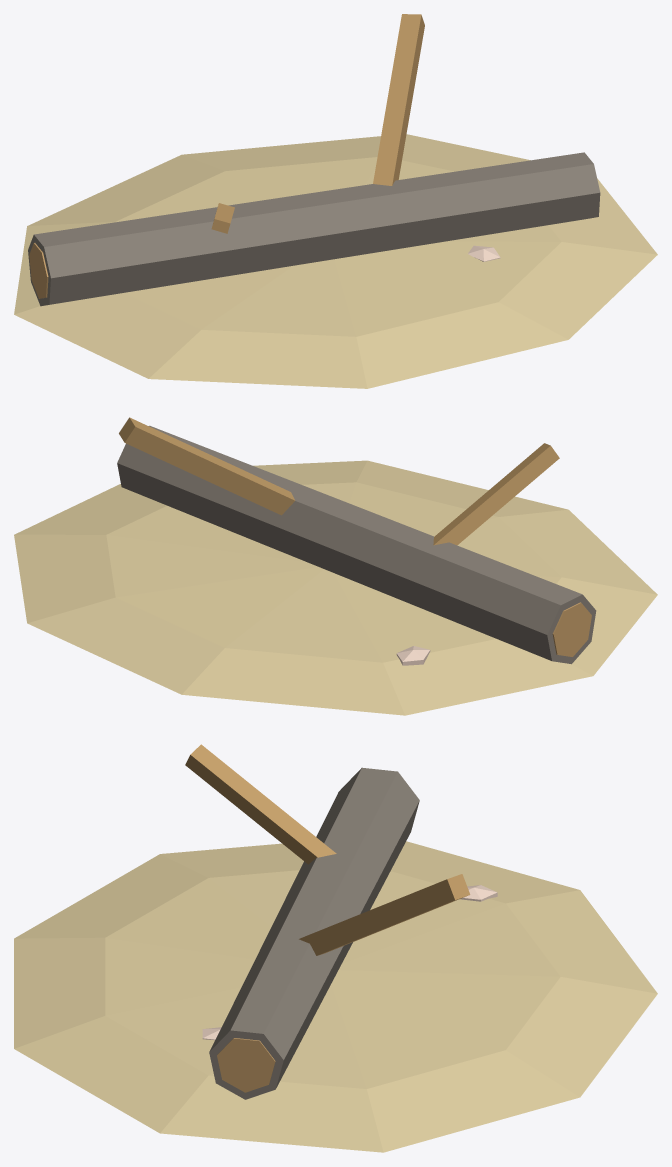
File: cover_driftwood.glb
3 renders of one model, top to bottom at view 1: azimuth 30°, elevation 25°; view 2: azimuth 150°, elevation 25°; view 3: azimuth 270°, elevation 25°, orthographic. The views are drawn at different scales.
Parts seen in each view (by area): view 1: nature_beach_driftwood; view 2: nature_beach_driftwood; view 3: nature_beach_driftwood.
Part boxes in pixels (x1=…): nature_beach_driftwood: x1=14, y1=14, x2=657, y2=388; nature_beach_driftwood: x1=14, y1=417, x2=657, y2=715; nature_beach_driftwood: x1=14, y1=744, x2=657, y2=1152.
Size of the model in its own units: 2.83 by 0.9088 by 2.42.
